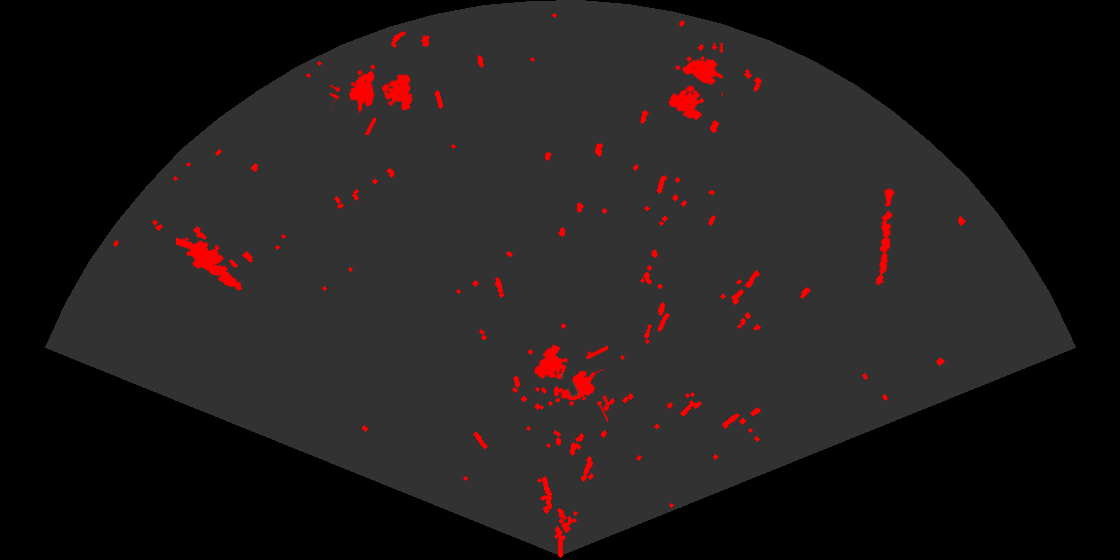cage: (533, 343, 608, 424), (330, 63, 414, 135), (667, 43, 723, 122)
chain: (874, 186, 897, 287)
frogman: (176, 236, 244, 292)
